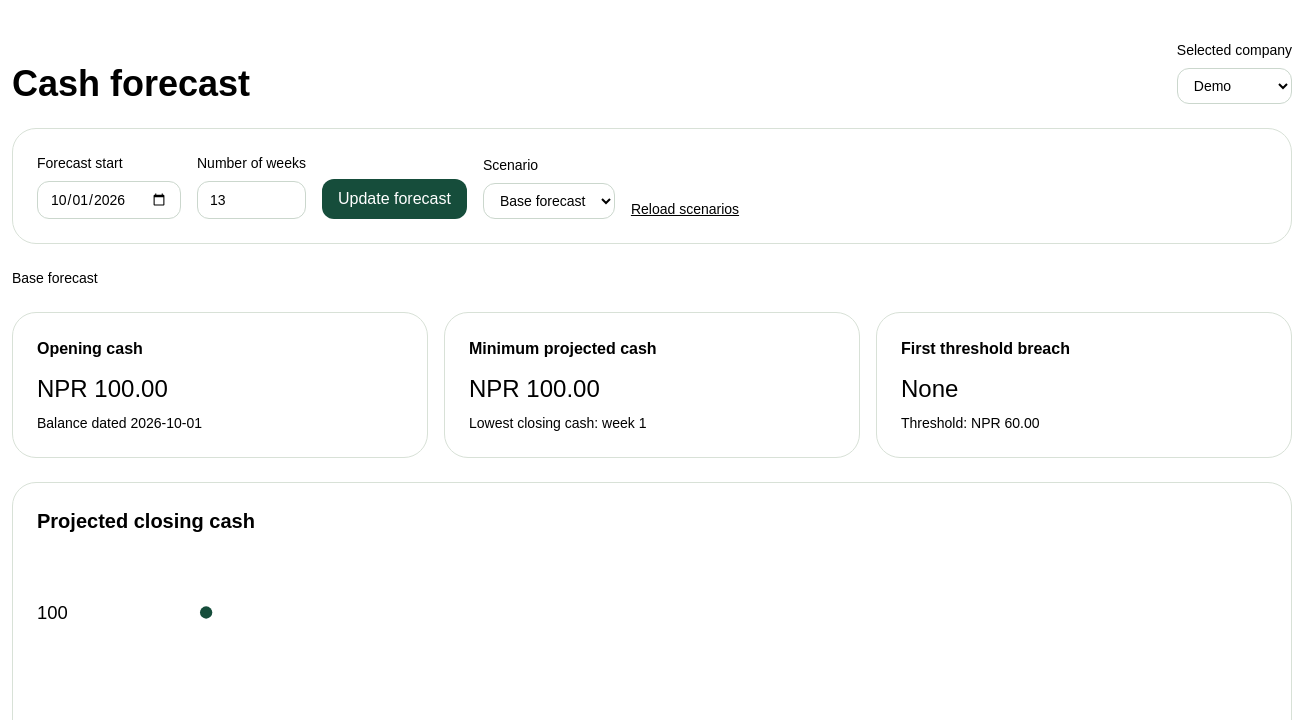
Test case: forecast selector requests base and scenario and shows comparison
Select "Downside" in the dropdown labelled "Scenario" at (549, 201), box [483,183,615,219]
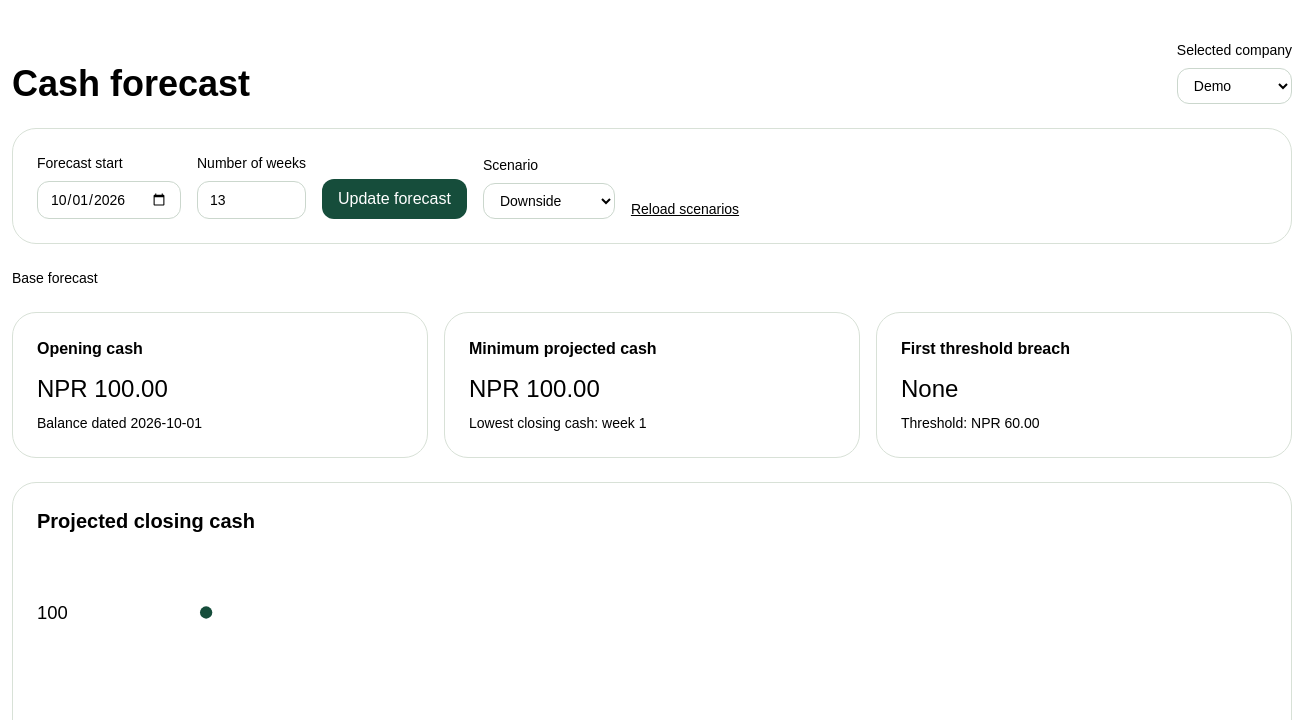
Click the button "Update forecast" at (394, 199), box [322,179,467,219]
(page scrolled)
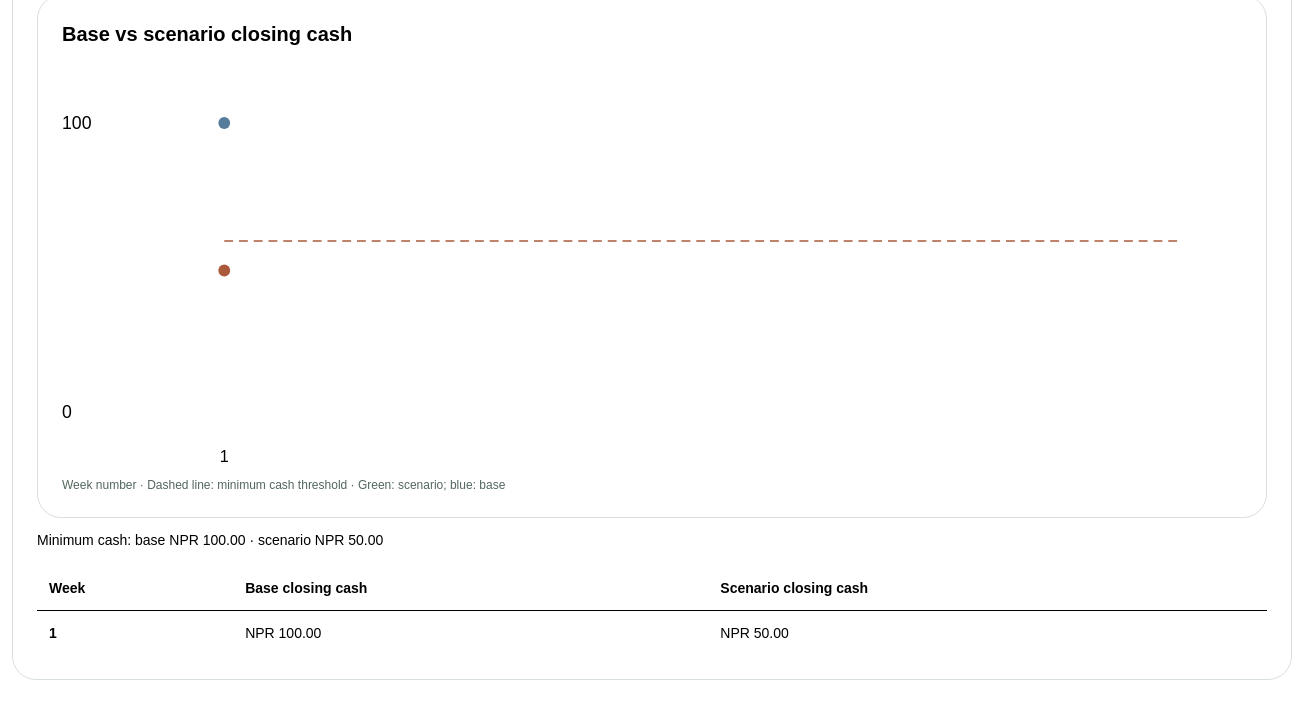
Result: the column heading "Base closing cash" is shown at [233,566,708,610]
